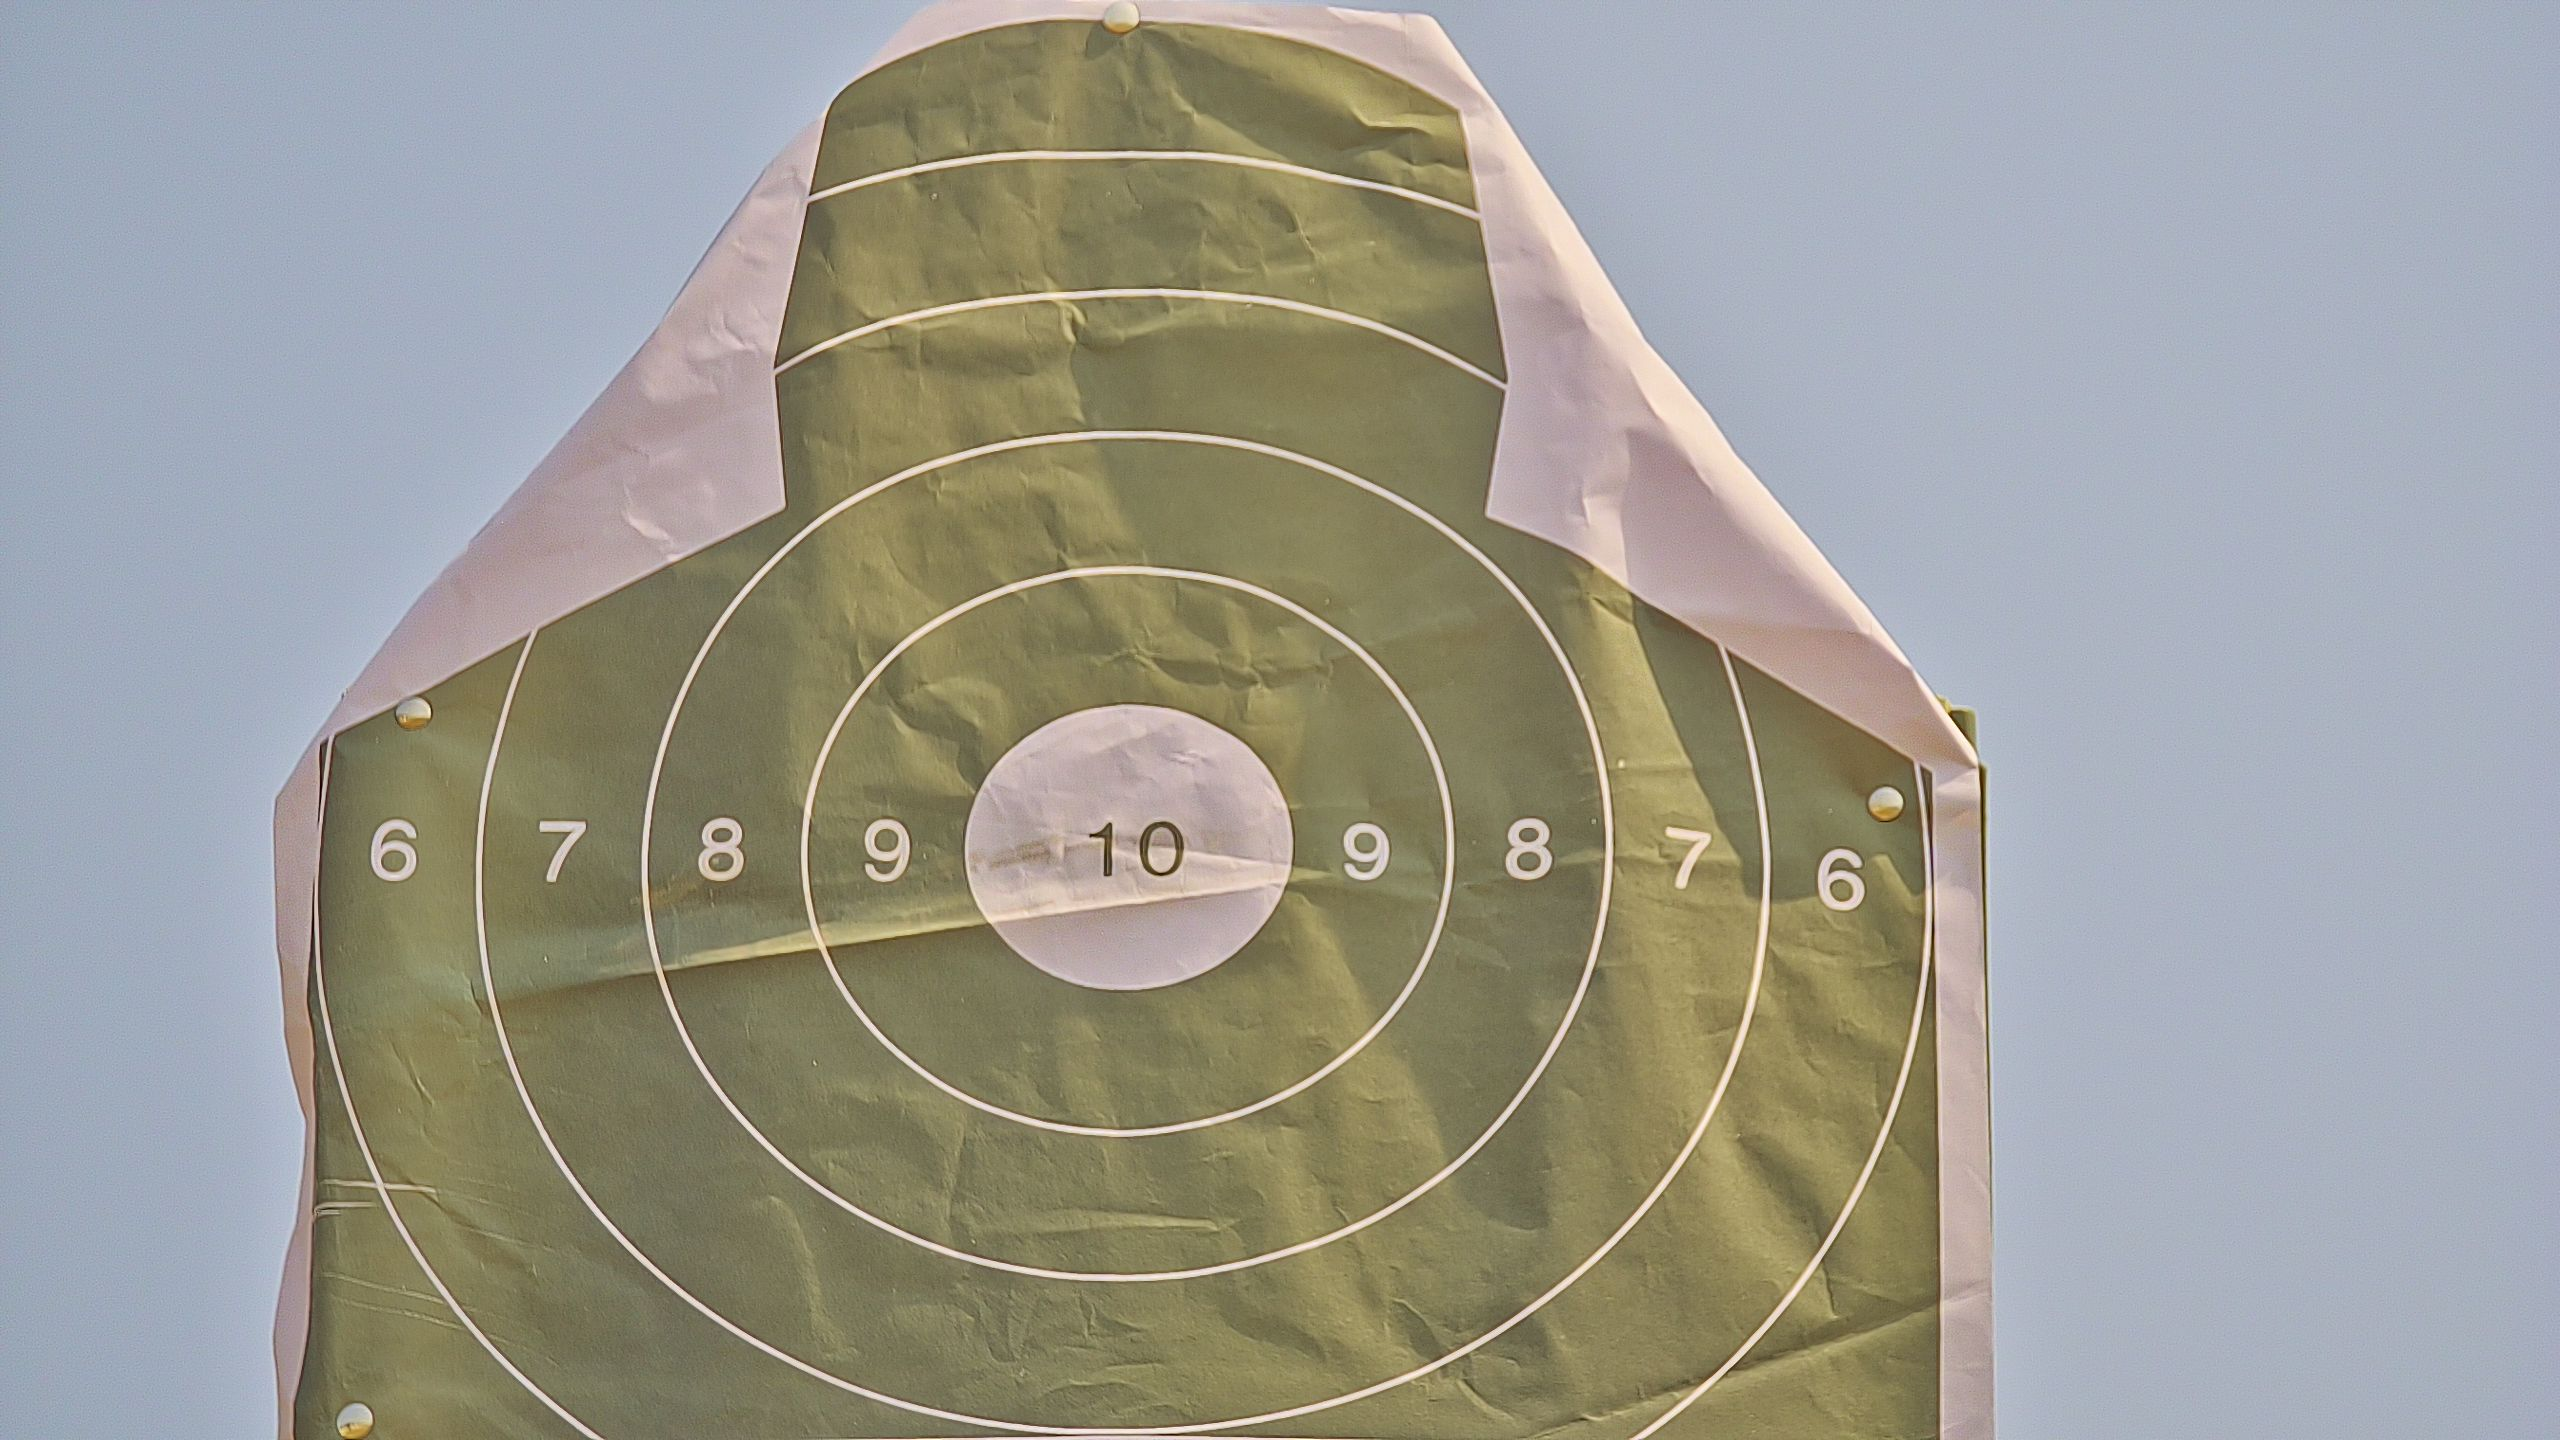kernel: (1122, 846, 1129, 855)
target: (301, 16, 1939, 1440)
ten: (962, 695, 1299, 995)
